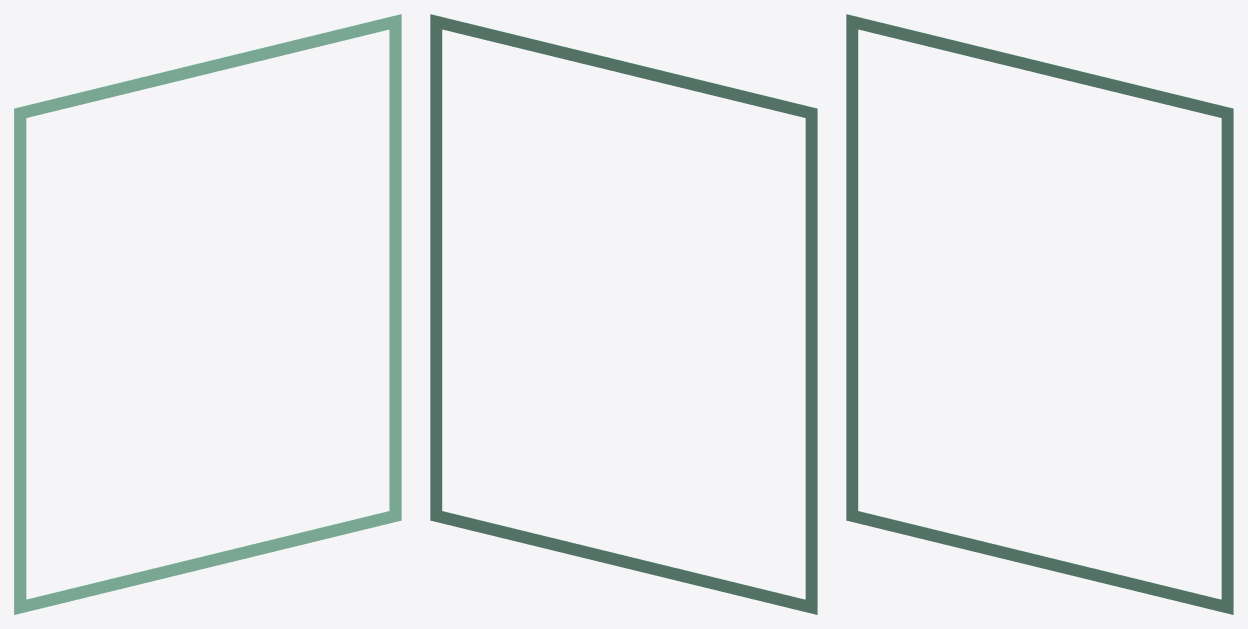
Rendered from cadre.fbx.
The picture shows the model from 3 angles, left to right: view 1: azimuth 30°, elevation 25°; view 2: azimuth 150°, elevation 25°; view 3: azimuth 330°, elevation 25°; orthographic projection.
Parts seen in each view (by area): view 1: Cube; view 2: Cube; view 3: Cube.
Part boxes in pixels (bbox=[...]): Cube: bbox=[14, 14, 401, 614]; Cube: bbox=[430, 14, 817, 614]; Cube: bbox=[846, 14, 1233, 614].
Bounding box in the file's own units: 200 × 250 × 0.3.
